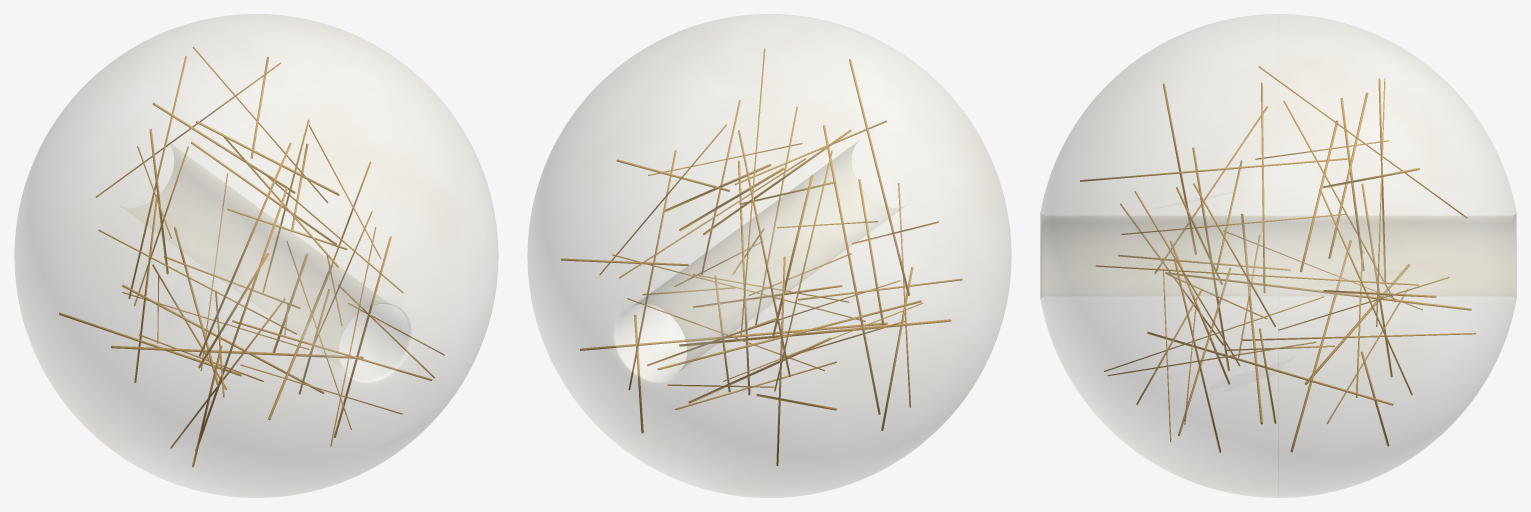
The model's file is golden-rutilated-quartz-6mm.glb.
The picture shows the model from 3 angles, left to right: view 1: azimuth 30°, elevation 25°; view 2: azimuth 150°, elevation 25°; view 3: azimuth 270°, elevation 25°; orthographic projection.
Parts seen in each view (by area): view 1: golden-rutilated-quartz.001, golden-rutilated-quartz_WEB_needles_48; view 2: golden-rutilated-quartz.001, golden-rutilated-quartz_WEB_needles_48; view 3: golden-rutilated-quartz.001, golden-rutilated-quartz_WEB_needles_48.
Boxes of the visible parts, x1=… form: golden-rutilated-quartz.001: x1=14, y1=14, x2=498, y2=497; golden-rutilated-quartz_WEB_needles_48: x1=59, y1=46, x2=444, y2=467; golden-rutilated-quartz.001: x1=527, y1=14, x2=1011, y2=497; golden-rutilated-quartz_WEB_needles_48: x1=561, y1=48, x2=962, y2=465; golden-rutilated-quartz.001: x1=1040, y1=14, x2=1516, y2=497; golden-rutilated-quartz_WEB_needles_48: x1=1080, y1=66, x2=1475, y2=452.
Size of the model in its own units: 0.006 by 0.006 by 0.0059.
Materials: 3 (1 with a texture image).
